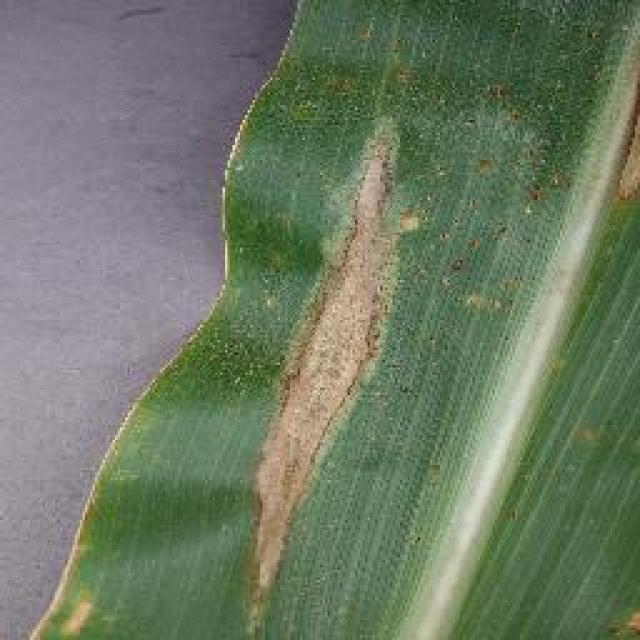Corn___Northern_Leaf_Blight: (206, 58, 512, 636)
